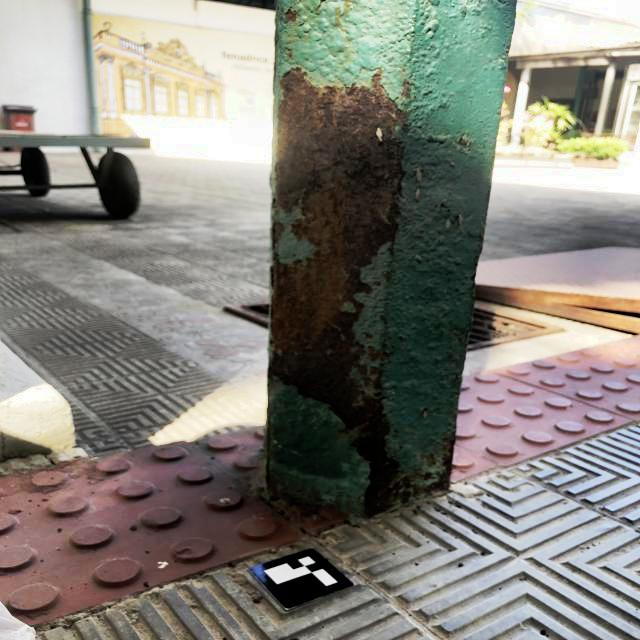Corrosion: (269, 67, 408, 516), (266, 366, 348, 511), (401, 430, 455, 497), (400, 78, 412, 99), (283, 8, 297, 22), (458, 137, 466, 145), (285, 52, 293, 59)
